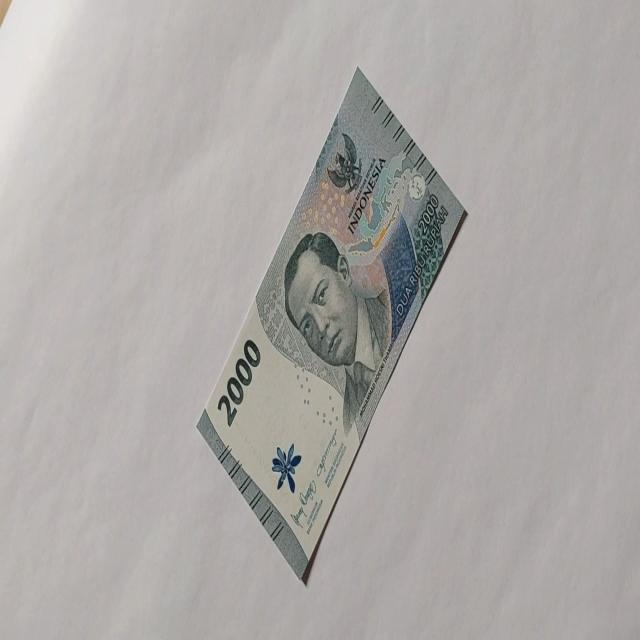dua ribu rupiah: (195, 65, 468, 582), (283, 228, 392, 438)
